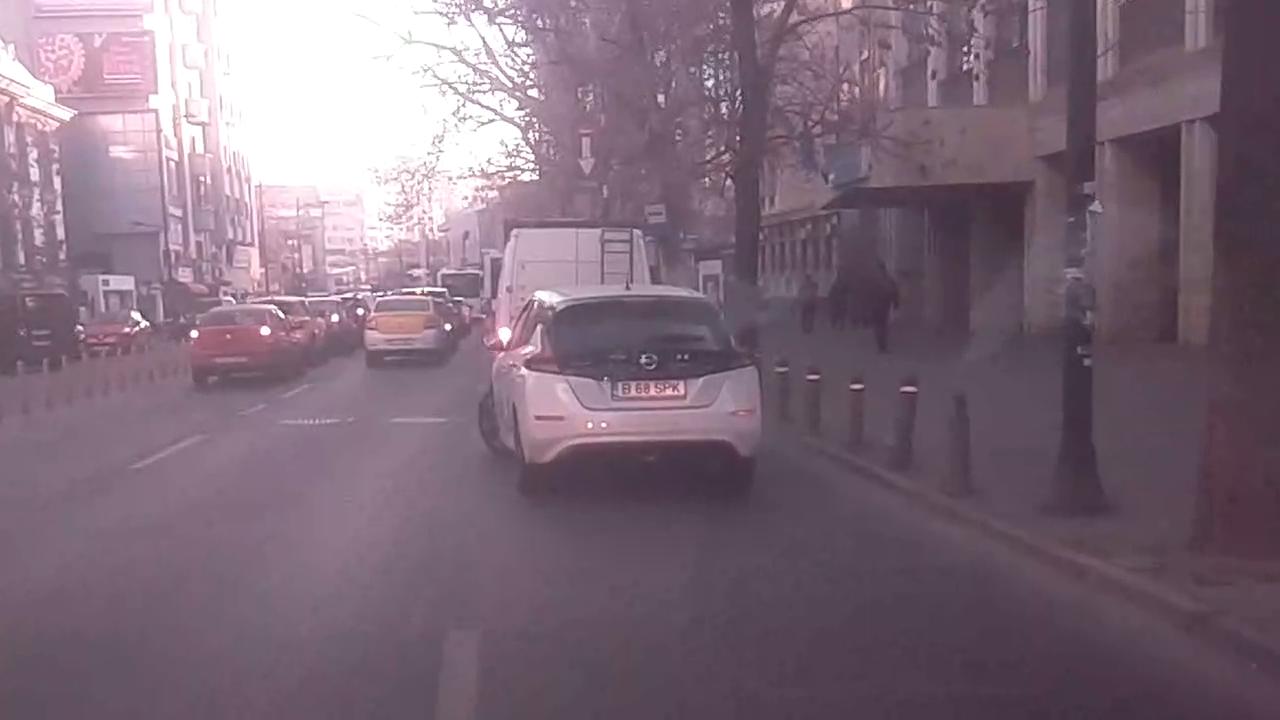license-plate: (607, 373, 689, 401)
